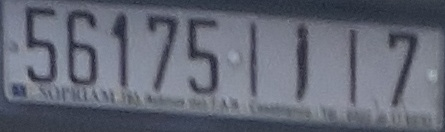1: (109, 11, 132, 88)
5: (22, 5, 60, 85), (186, 15, 221, 98)
6: (65, 8, 101, 88)
7: (383, 30, 420, 110), (145, 11, 181, 93)
a: (290, 20, 313, 104)
